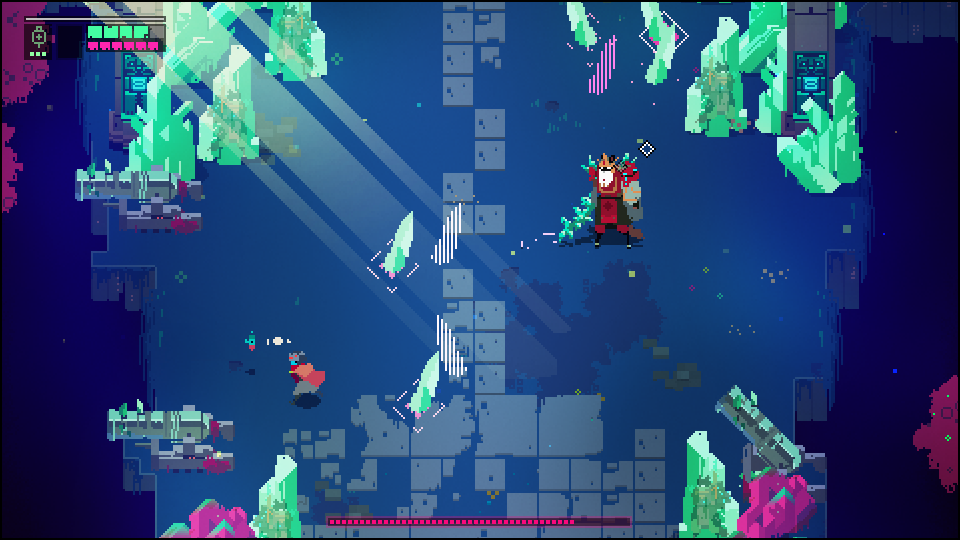hanged_crys: (434, 314, 469, 379), (588, 34, 624, 96), (383, 209, 413, 279), (435, 201, 463, 271), (412, 349, 440, 413), (649, 25, 681, 81), (564, 1, 602, 45)
hanged_man: (554, 147, 647, 246)
player: (284, 348, 329, 404)
